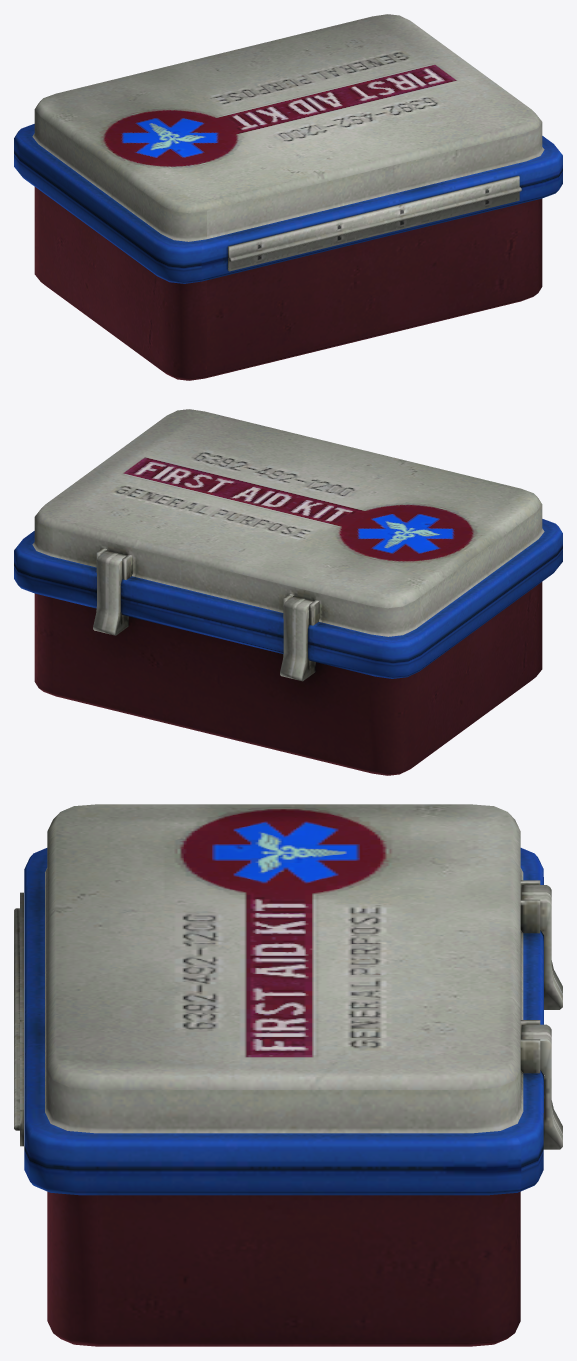
File: Common_Props_FirstAidKit_3P_LOD0.glb
3 renders of one model, top to bottom at view 1: azimuth 30°, elevation 25°; view 2: azimuth 150°, elevation 25°; view 3: azimuth 270°, elevation 25°, orthographic. The views are drawn at different scales.
Parts seen in each view (by area): view 1: Hoodie; view 2: Hoodie; view 3: Hoodie.
Boxes of the visible parts, x1=… form: Hoodie: x1=14, y1=14, x2=562, y2=380; Hoodie: x1=14, y1=409, x2=562, y2=775; Hoodie: x1=14, y1=804, x2=562, y2=1346.
Size of the model in its own units: 0.1974 by 0.0829 by 0.1529.
Materials: 1 (1 with a texture image).
